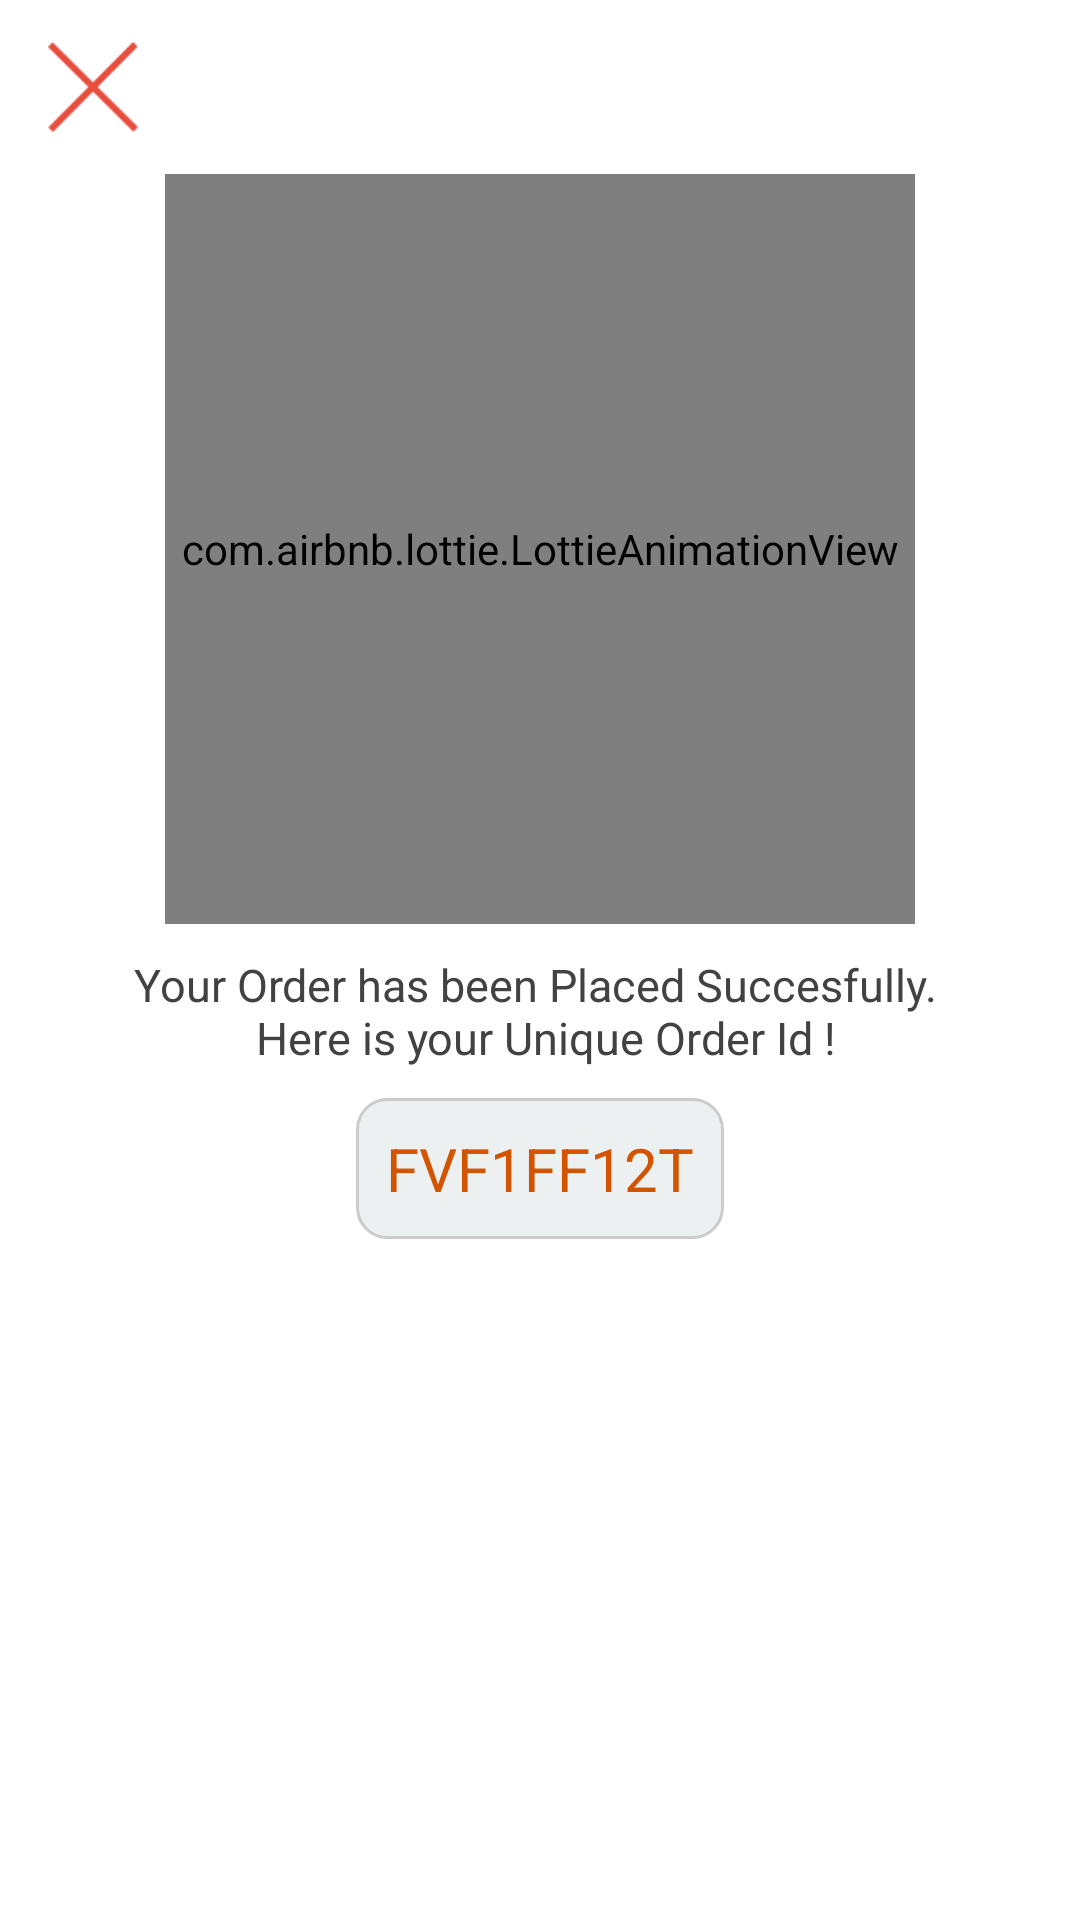

Icons on this 1080px×1920px Android screen, each with its box as box=[x1, y1, x2, y2]:
clear: box=[48, 42, 138, 132]
